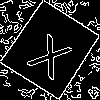X: (26, 24, 80, 81)
